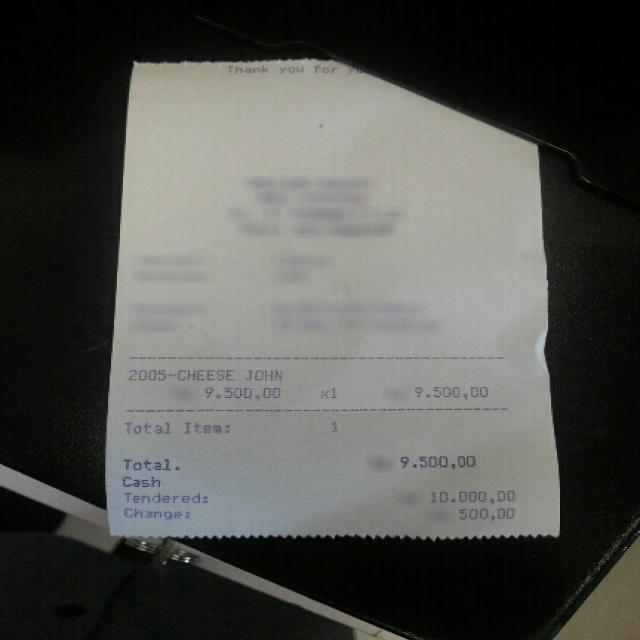kertas: (106, 59, 564, 540)
